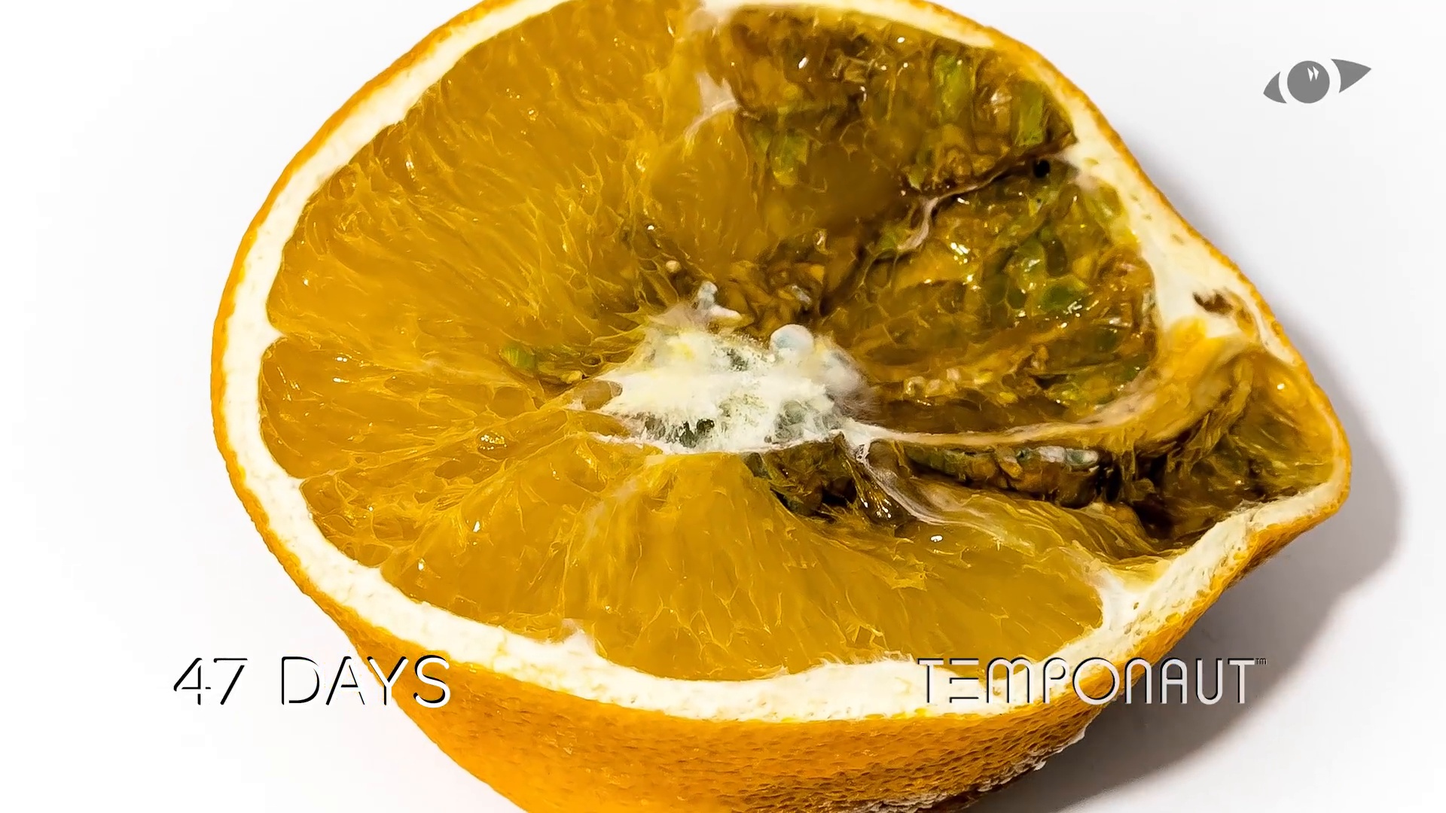orange_rotten: (209, 3, 1353, 802)
